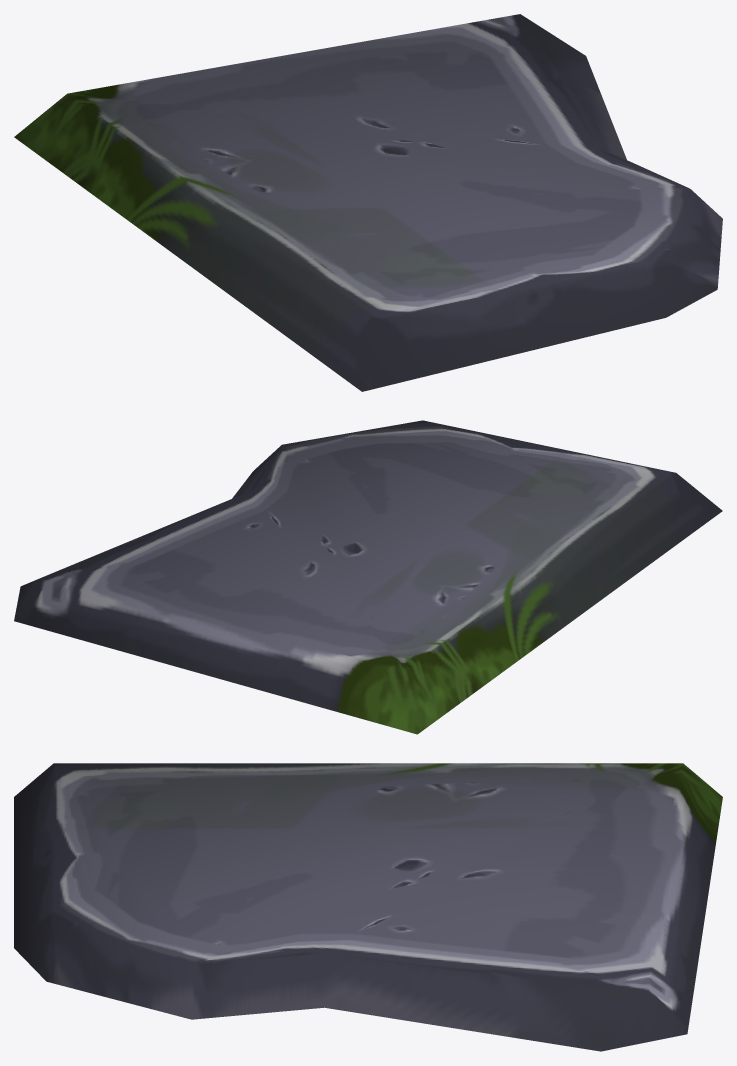
Rendered from MOD_Floor_01_O_singlestone_broken_7.fbx.
3 renders of one model, top to bottom at view 1: azimuth 30°, elevation 25°; view 2: azimuth 150°, elevation 25°; view 3: azimuth 270°, elevation 25°, orthographic. The views are drawn at different scales.
Visible parts, largest first — view 1: MOD_Floor_01_O_singlestone_broken_7; view 2: MOD_Floor_01_O_singlestone_broken_7; view 3: MOD_Floor_01_O_singlestone_broken_7.
Part boxes in pixels (box(x1,y1,x2,y2)): MOD_Floor_01_O_singlestone_broken_7: box(14, 14, 722, 391); MOD_Floor_01_O_singlestone_broken_7: box(14, 420, 722, 734); MOD_Floor_01_O_singlestone_broken_7: box(14, 763, 722, 1051).
Bounding box in the file's own units: 84.95 × 7.84 × 100.
